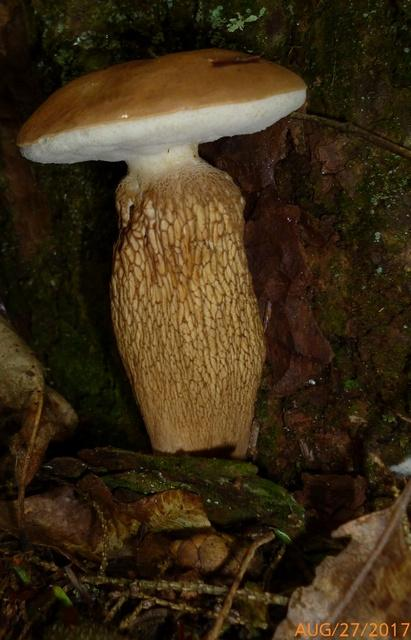poisonous_mushroom: (15, 46, 309, 460)
